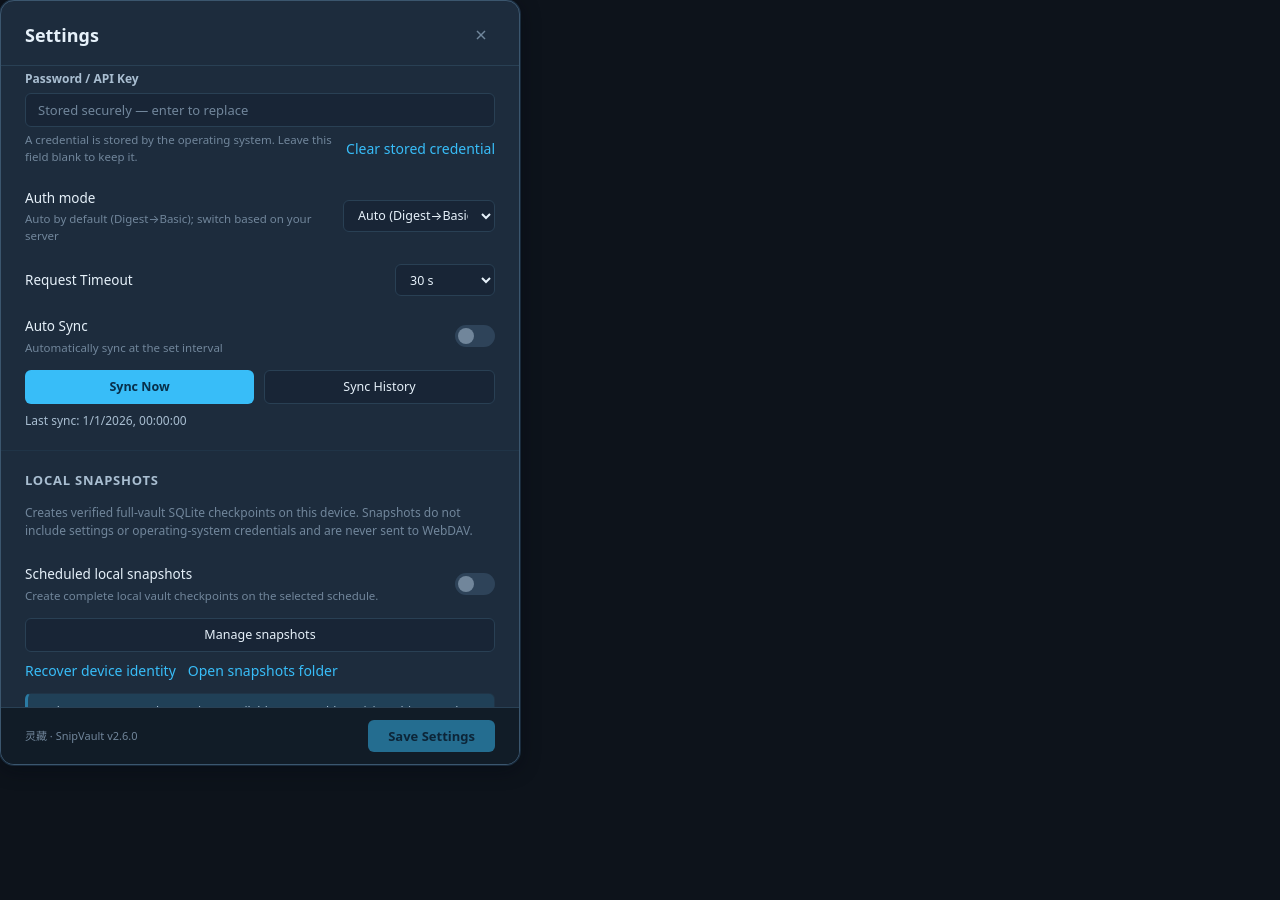
SettingsPanel draft behavior › runs settings sync through the injected coordinator
(page scrolled)
Click the button "Sync Now".
click(140, 387)  # box [25, 370, 254, 404]
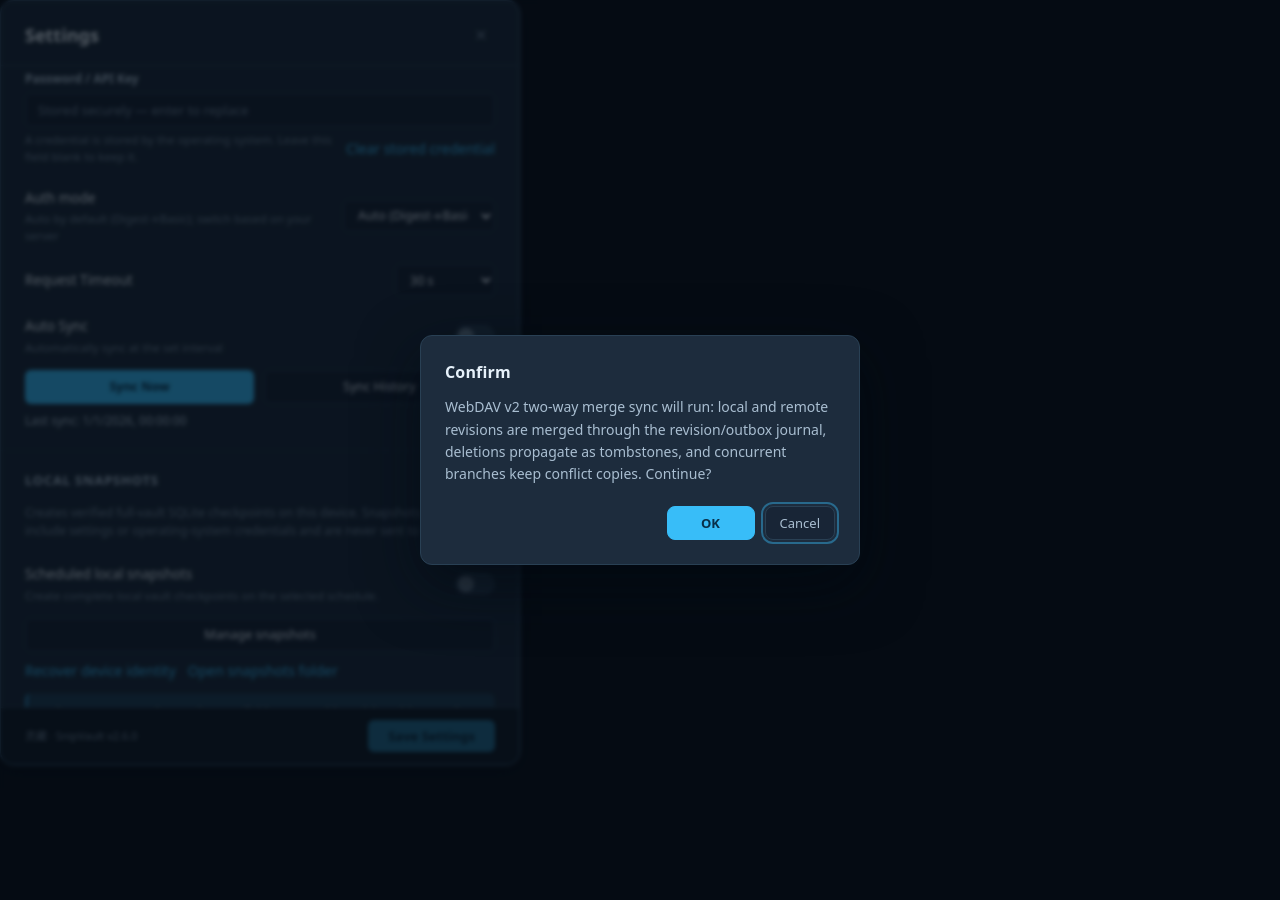
Click the button "OK".
click(710, 523)  # box [666, 506, 754, 540]
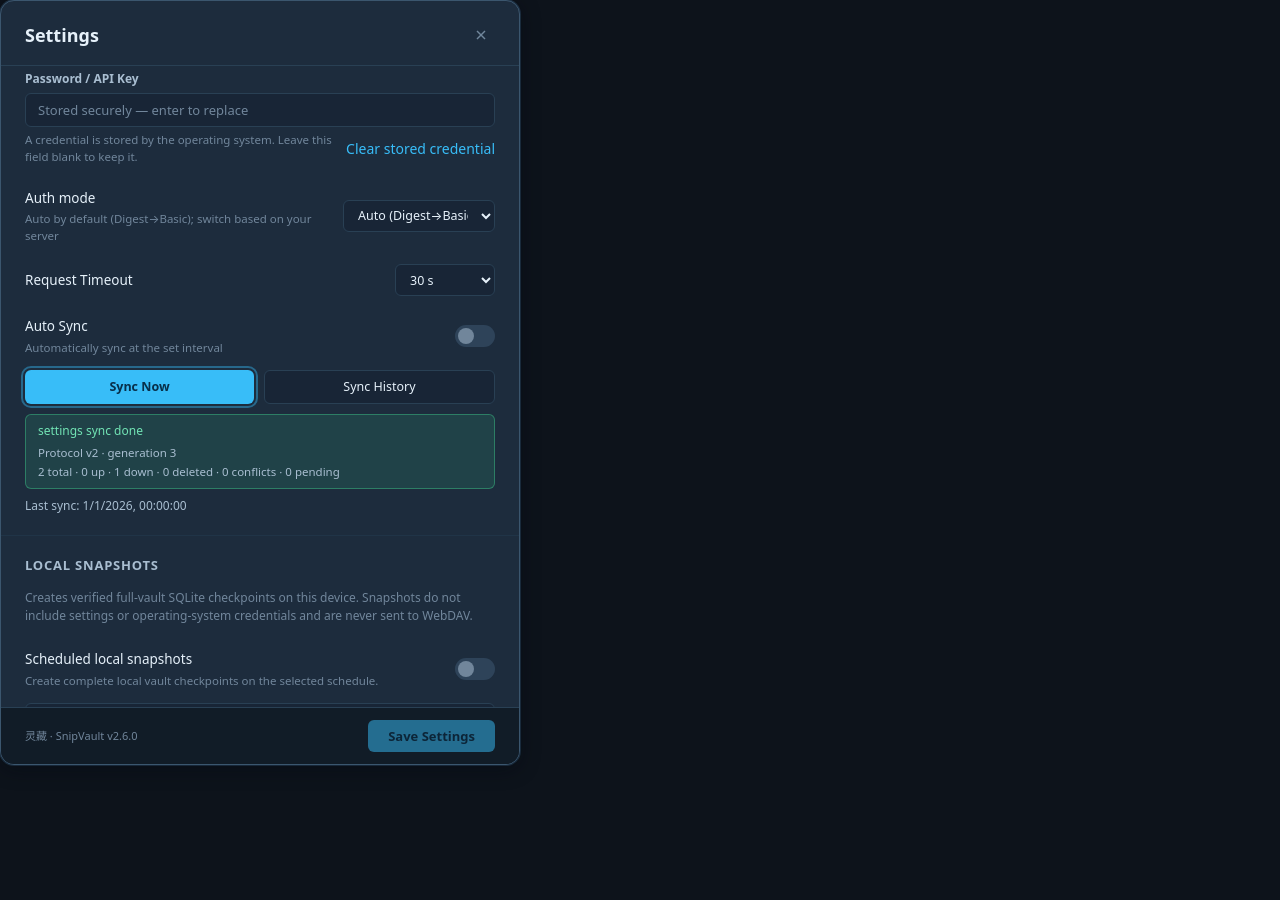
Expected: the message shows "settings sync done", [38, 422, 143, 439]
Expected: the message shows "Protocol v2 · generation 3", [38, 445, 176, 460]
Expected: the message shows "2 total · 0 up · 1 down · 0 deleted · 0 conflicts · 0 pending", [38, 464, 340, 479]
